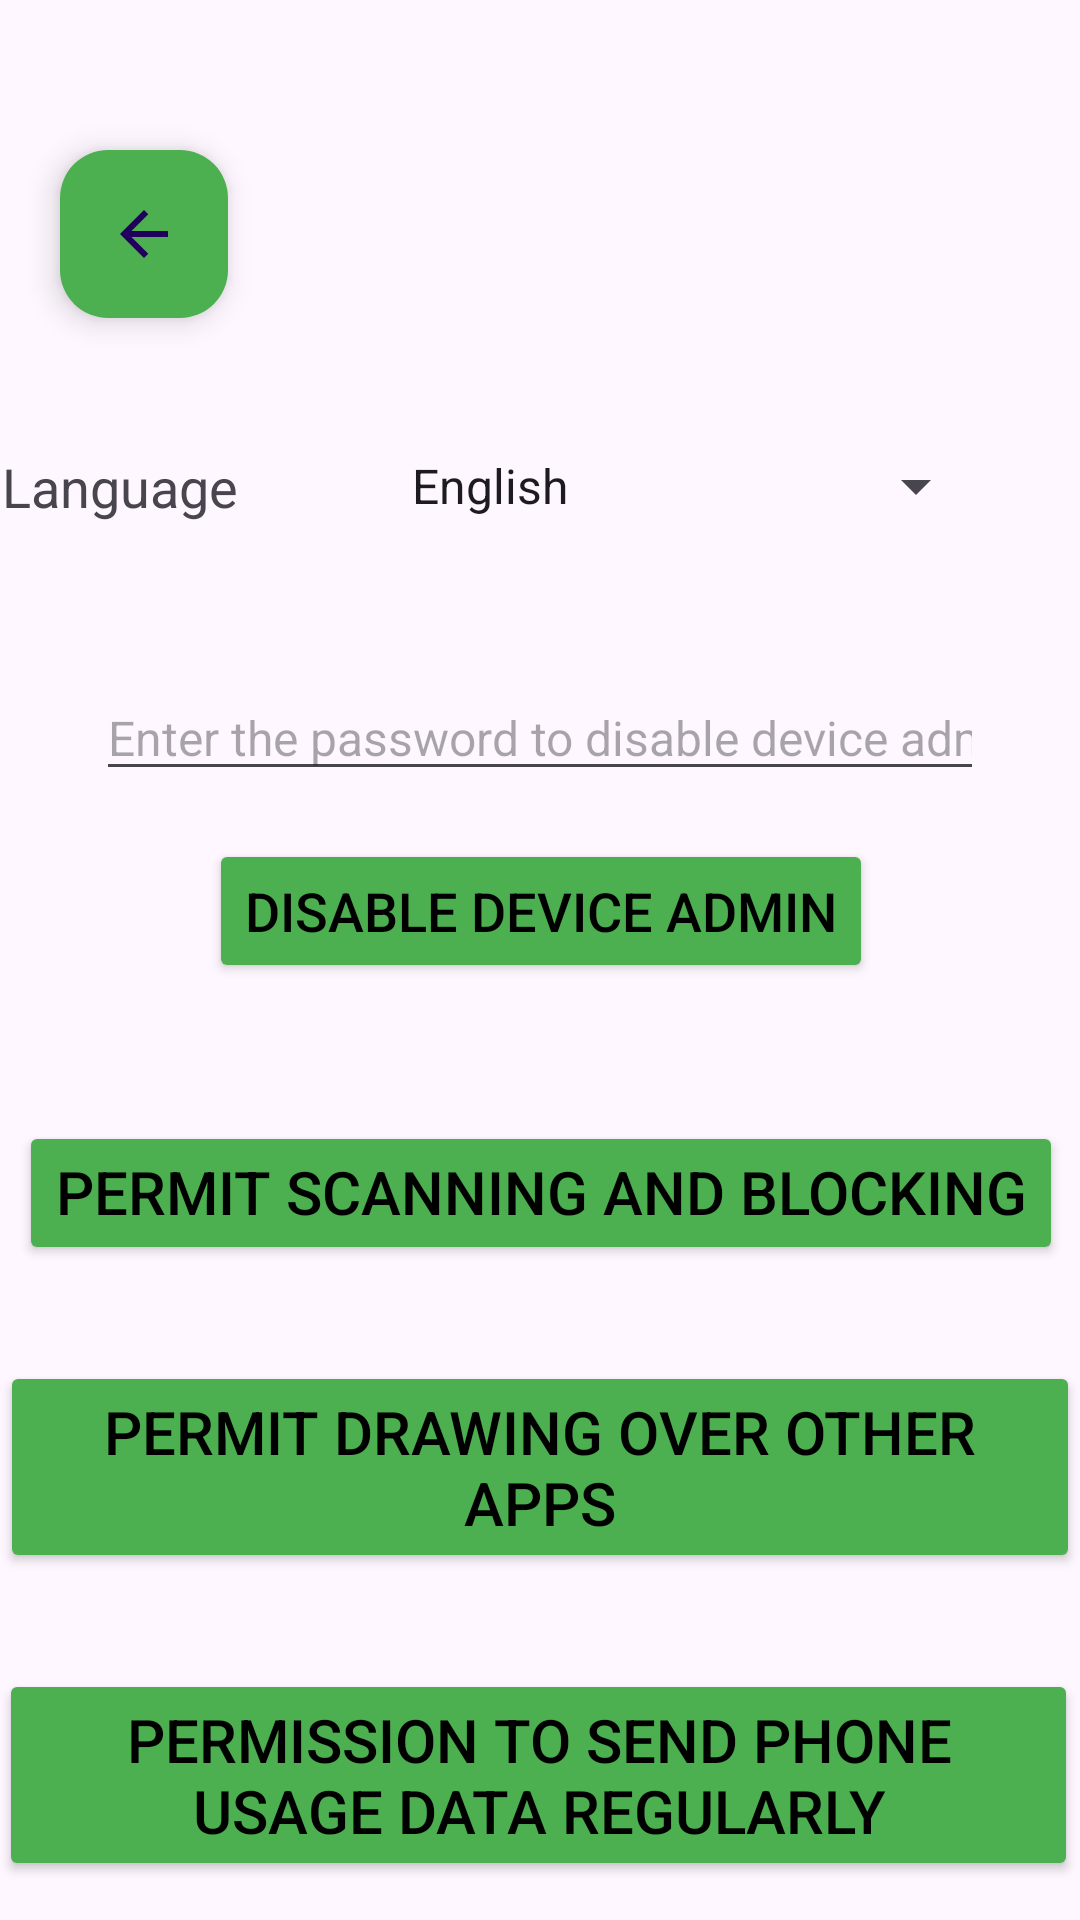

Named icons in this screenshot (1080px x 1920px) and their bounding boxes, (x1, y1, x2, y2):
arrow back: (60, 150, 228, 318)
